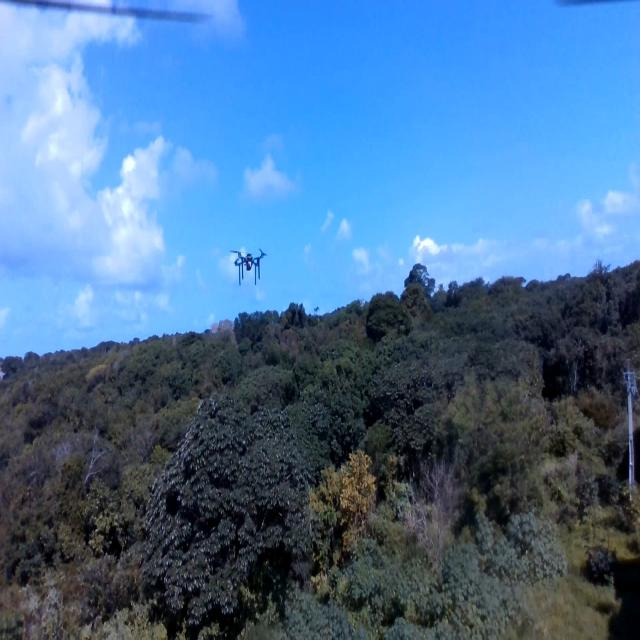-uav-: (225, 238, 271, 292)
